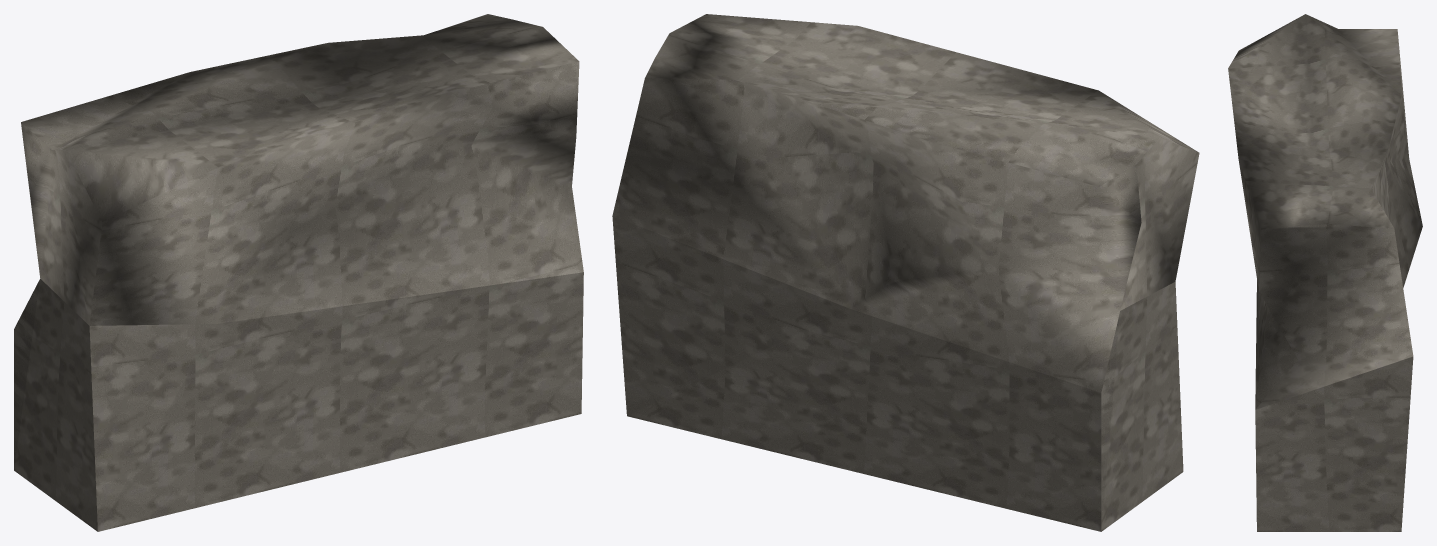
File: cliff_section_lod2.glb
3 views of the same model, side by side, from view 1: azimuth 30°, elevation 25°; view 2: azimuth 150°, elevation 25°; view 3: azimuth 270°, elevation 25° (orthographic). The views are drawn at different scales.
Parts seen in each view (by area): view 1: m; view 2: m; view 3: m.
Part boxes in pixels (box(x1,y1,x2,y2)): m: box(14, 14, 583, 531); m: box(612, 14, 1199, 531); m: box(1228, 14, 1422, 531).
Bounding box in the file's own units: 10.55 × 7.18 × 4.04.
Materials: 1 (1 with a texture image).
